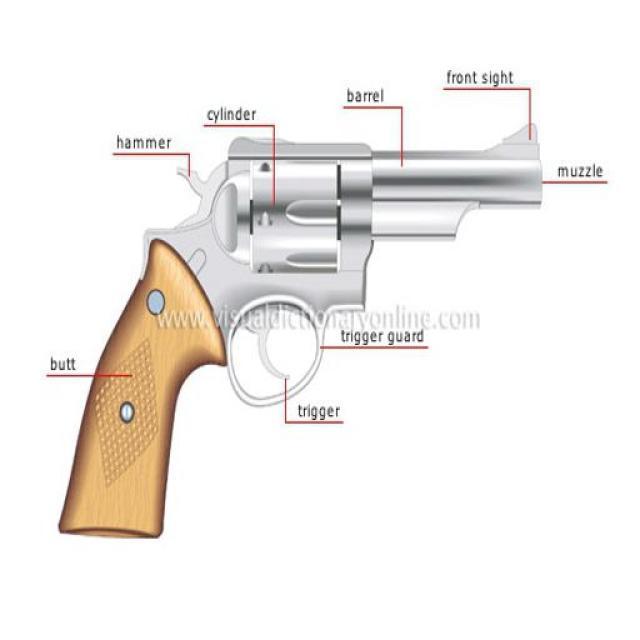pistol: (56, 120, 542, 537)
